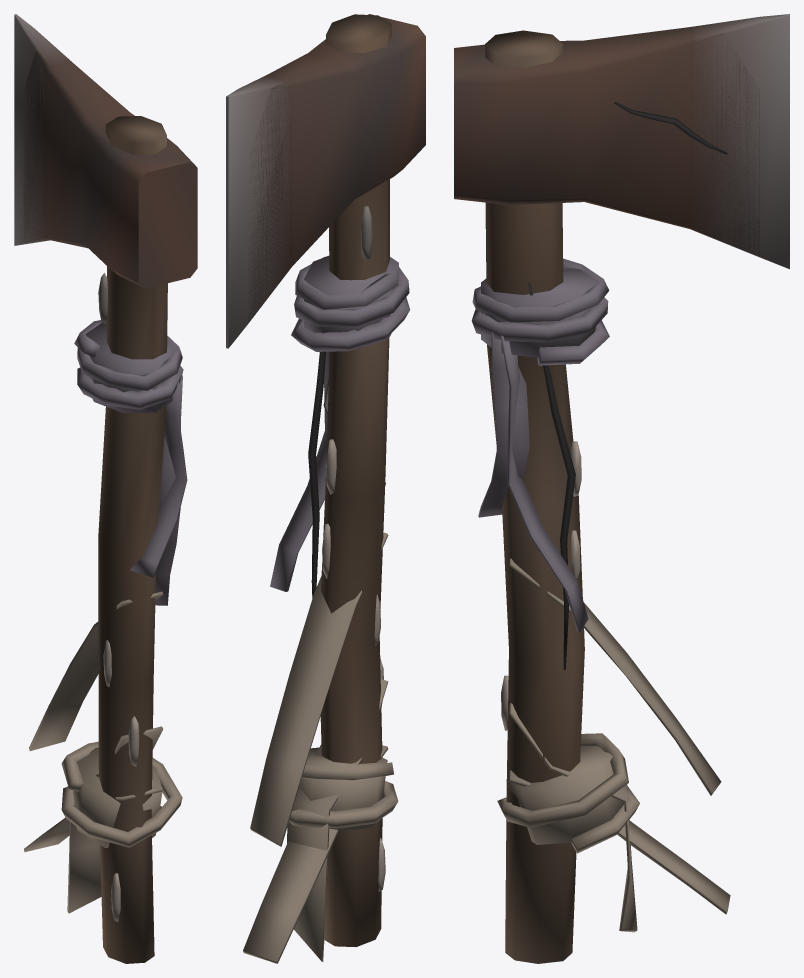
File: wpn_woodcutter_hatchet.glb
3 renders of one model, left to right at view 1: azimuth 30°, elevation 25°; view 2: azimuth 150°, elevation 25°; view 3: azimuth 270°, elevation 25°, orthographic. The views are drawn at different scales.
Parts seen in each view (by area): view 1: wpn_woodcutter_hatchet, wpn_woodcutter_hatchet_worn; view 2: wpn_woodcutter_hatchet, wpn_woodcutter_hatchet_worn; view 3: wpn_woodcutter_hatchet, wpn_woodcutter_hatchet_worn.
Boxes of the visible parts, x1,y1,x2,y2 form: wpn_woodcutter_hatchet: [14, 14, 197, 963]; wpn_woodcutter_hatchet_worn: [23, 47, 182, 913]; wpn_woodcutter_hatchet: [226, 14, 425, 946]; wpn_woodcutter_hatchet_worn: [243, 76, 398, 963]; wpn_woodcutter_hatchet: [454, 14, 789, 963]; wpn_woodcutter_hatchet_worn: [497, 28, 759, 932].
Size of what is drawn, in the model's own units: 0.0538 by 0.413 by 0.134.
